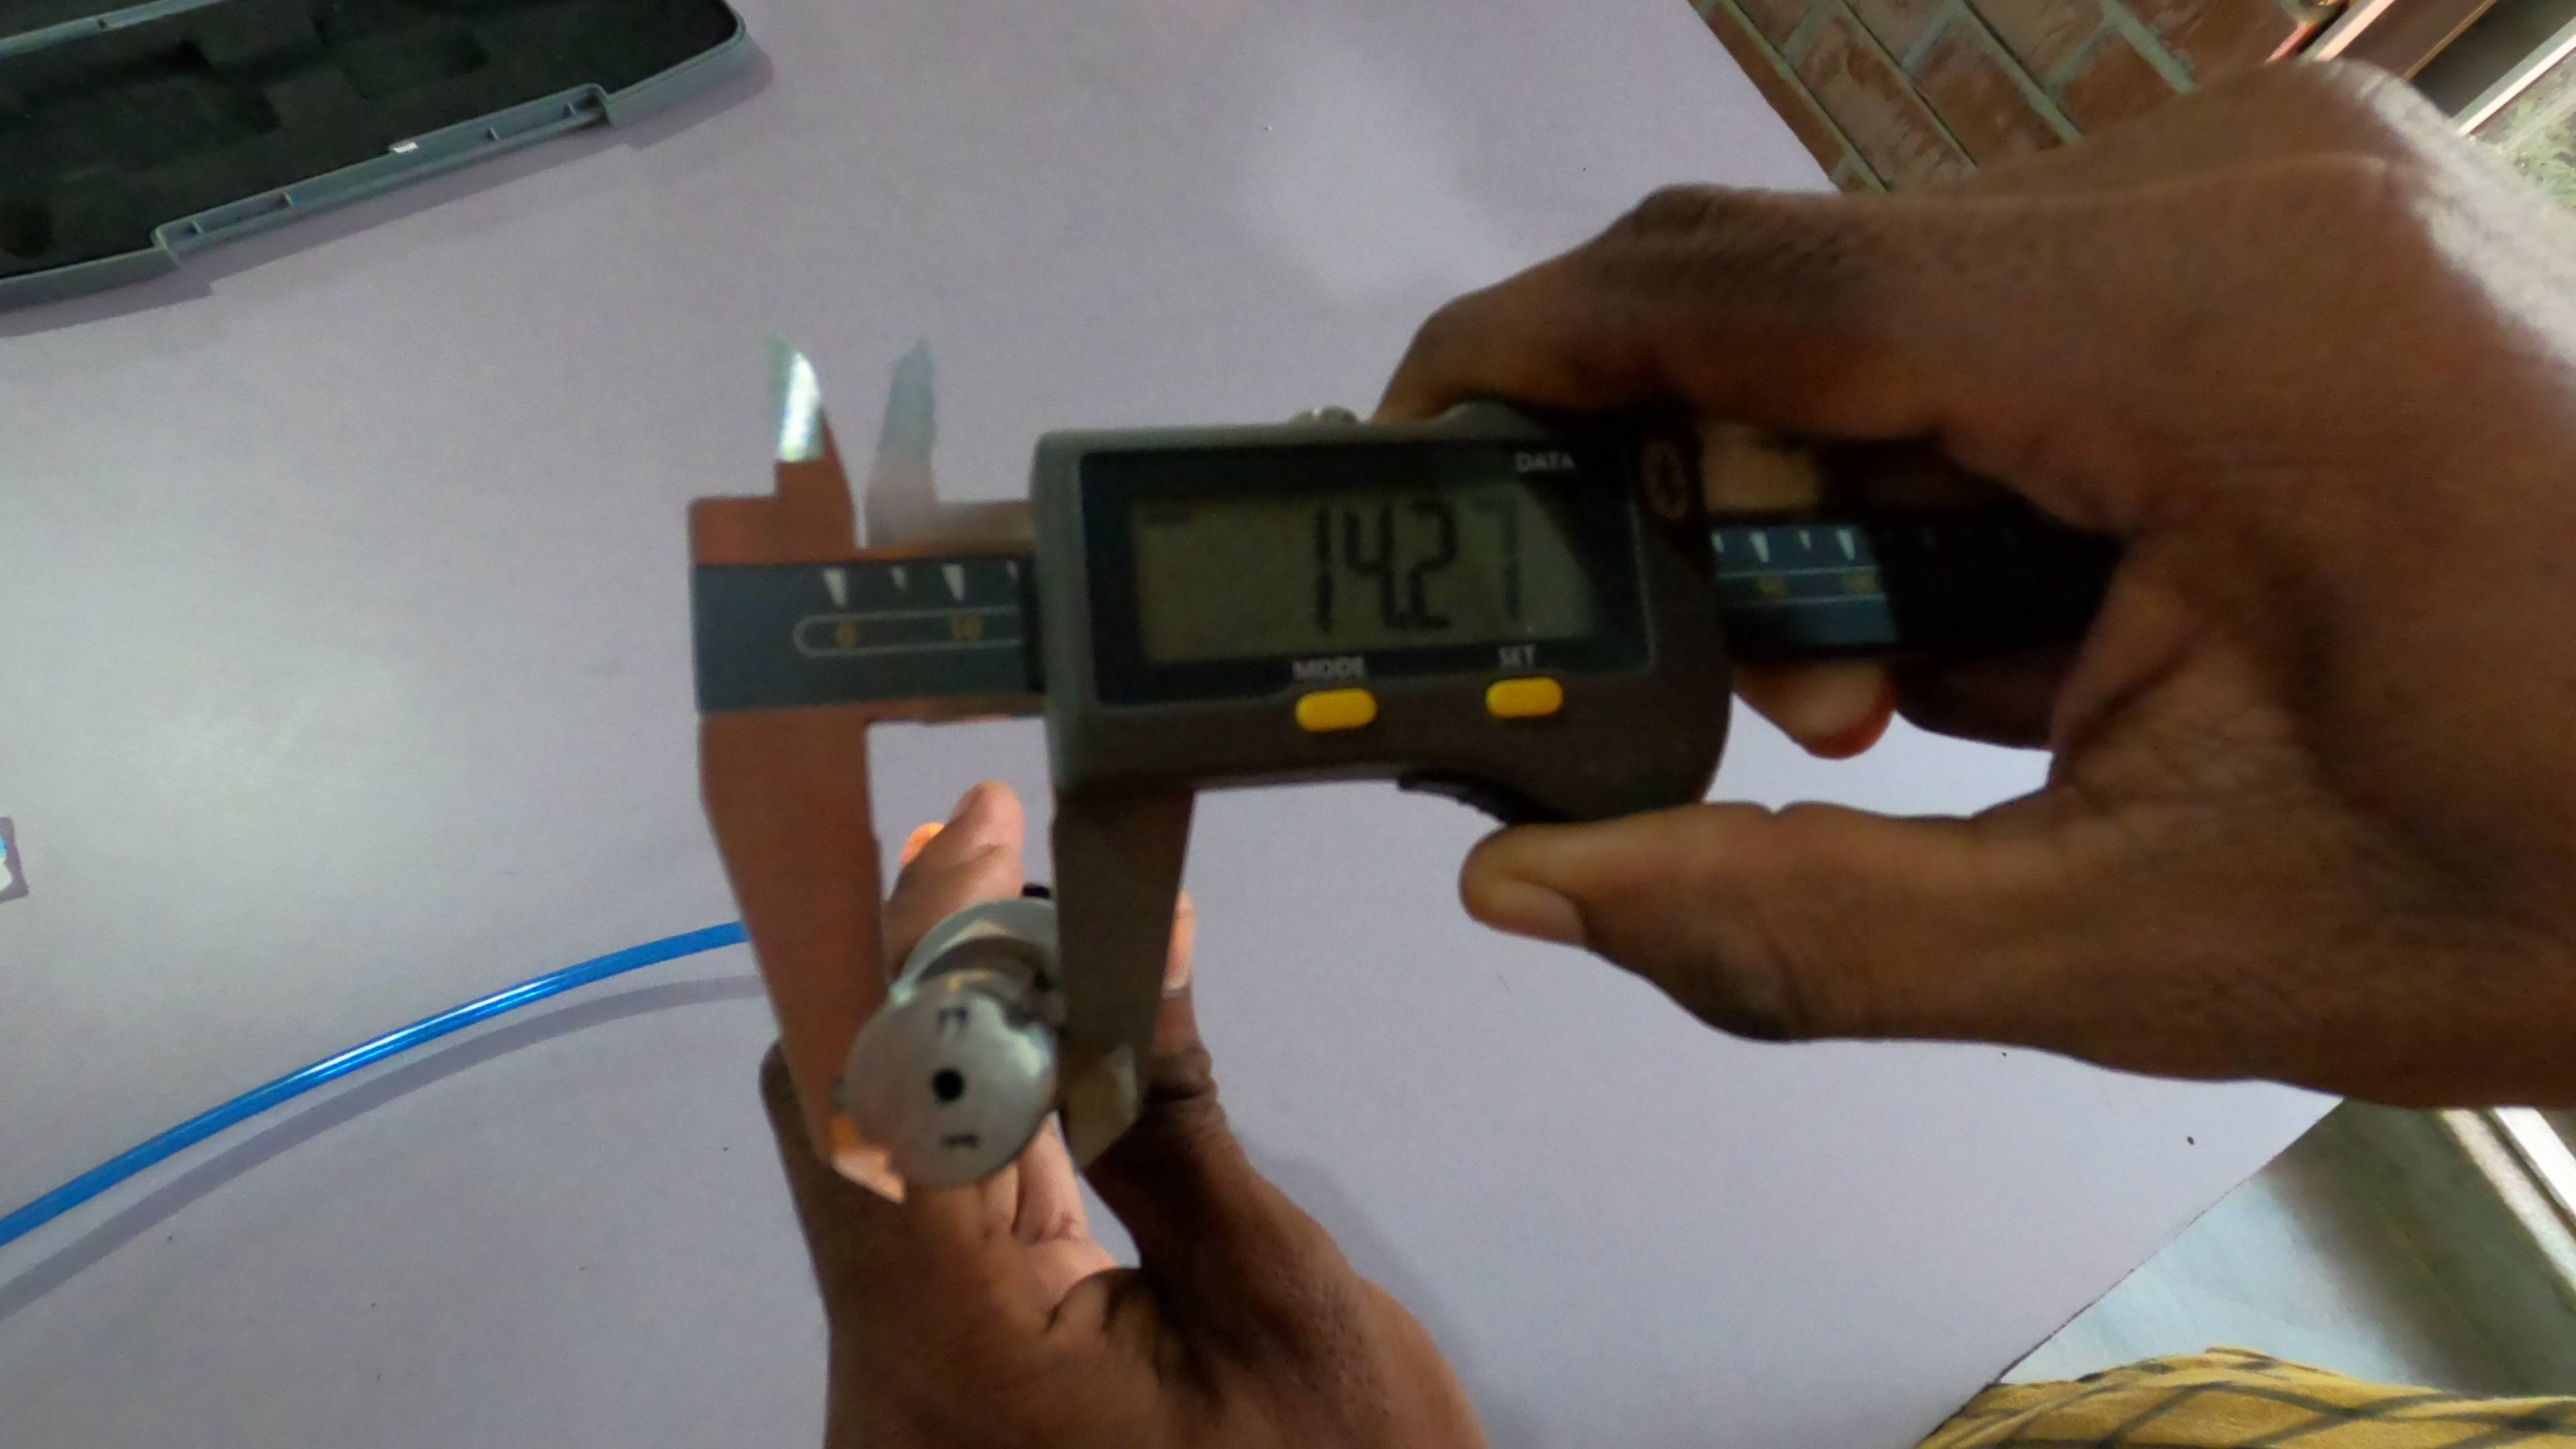vernier_caliper: (686, 326, 2121, 1205)
